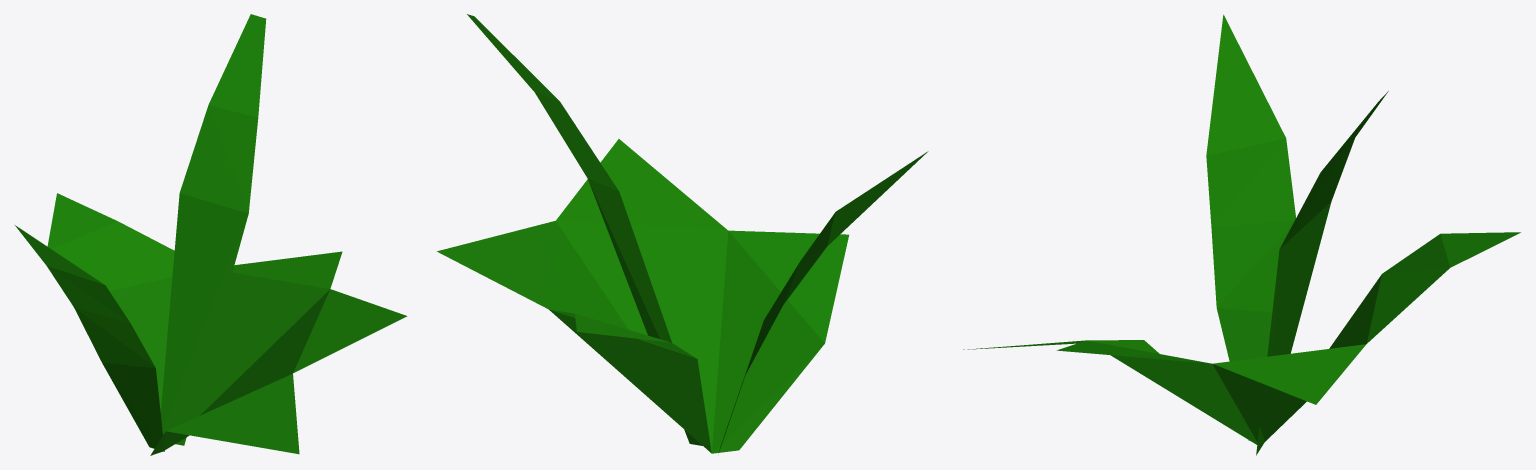
Rendered from Grass1.fbx.
3 renders of one model, left to right at view 1: azimuth 30°, elevation 25°; view 2: azimuth 150°, elevation 25°; view 3: azimuth 270°, elevation 25°, orthographic. The views are drawn at different scales.
Visible parts, largest first — view 1: SM_ENV_FOLIAGE_TCHEXA_Grass03.mo; view 2: SM_ENV_FOLIAGE_TCHEXA_Grass03.mo; view 3: SM_ENV_FOLIAGE_TCHEXA_Grass03.mo.
Boxes of the visible parts, x1,y1,x2,y2 form: SM_ENV_FOLIAGE_TCHEXA_Grass03.mo: (15,14,407,455); SM_ENV_FOLIAGE_TCHEXA_Grass03.mo: (437,14,928,453); SM_ENV_FOLIAGE_TCHEXA_Grass03.mo: (963,14,1520,455).
Bounding box in the file's own units: 39.03 × 37.02 × 42.98.
